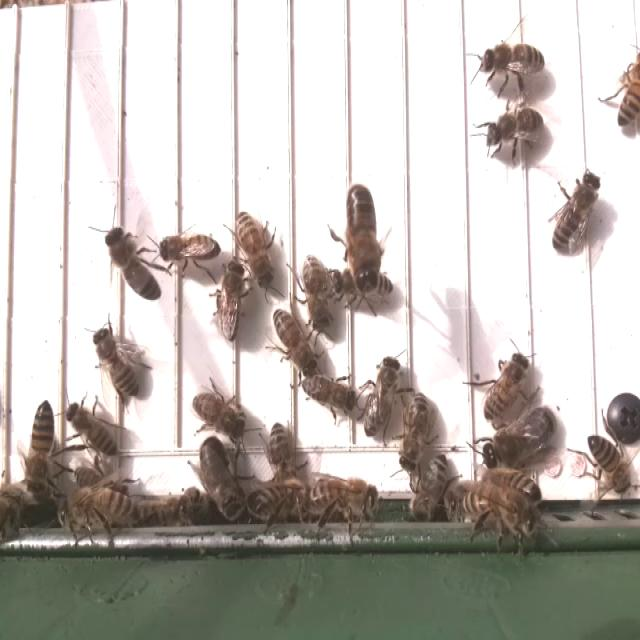Drone: (481, 405, 559, 474), (343, 178, 385, 302), (198, 431, 245, 531)
Worker: (104, 223, 164, 306), (549, 168, 601, 256), (91, 323, 142, 403), (481, 102, 544, 164), (482, 348, 531, 422), (270, 308, 317, 385), (232, 207, 276, 287), (478, 37, 547, 87), (65, 402, 122, 462), (362, 357, 402, 442), (25, 394, 57, 498), (586, 429, 631, 501), (190, 388, 250, 440), (213, 260, 246, 347), (398, 389, 431, 475), (301, 253, 333, 341), (299, 375, 358, 418), (157, 231, 220, 267), (266, 416, 295, 489)
